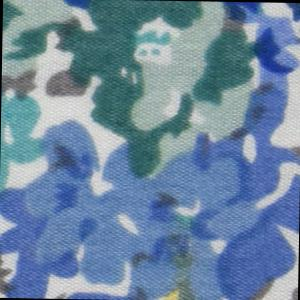Stain: (153, 201, 202, 300)
